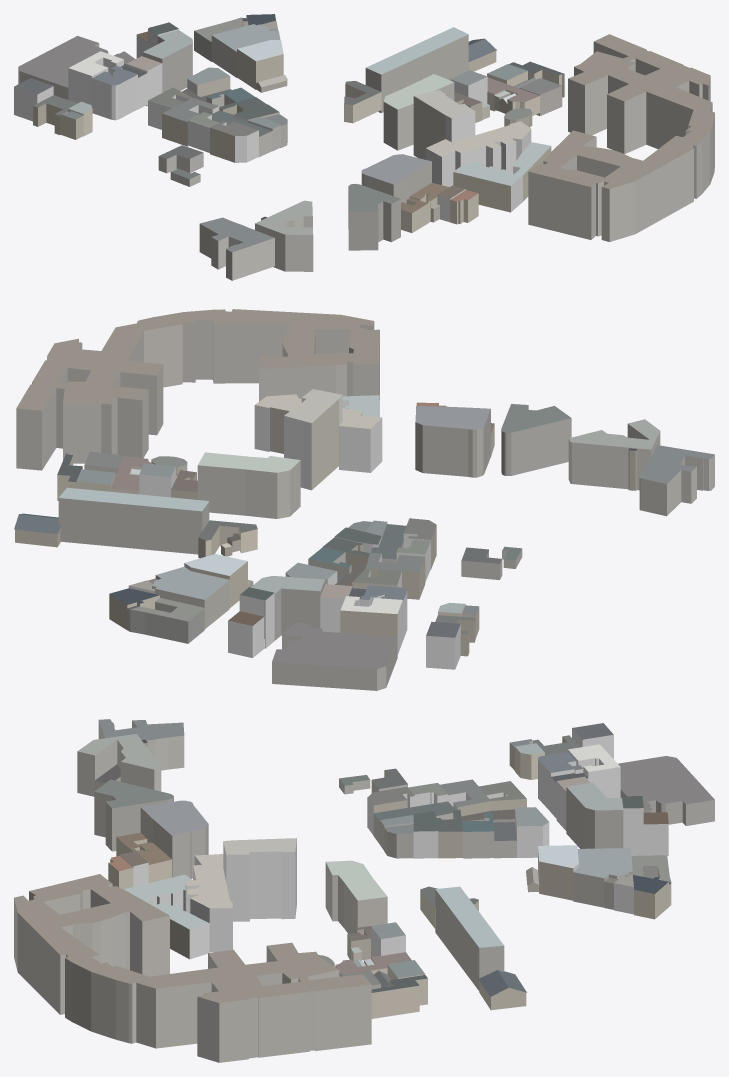
The picture shows the model from 3 angles, top to bottom: view 1: azimuth 30°, elevation 25°; view 2: azimuth 150°, elevation 25°; view 3: azimuth 270°, elevation 25°; orthographic projection. The views are drawn at different scales.
Visible parts, largest first — view 1: tuile; view 2: tuile; view 3: tuile.
Boxes of the visible parts, bbox=[...] form: tuile: bbox=[14, 14, 714, 280]; tuile: bbox=[14, 309, 714, 690]; tuile: bbox=[14, 719, 714, 1062].
Size of the model in its own units: 310 by 39.81 by 314.
